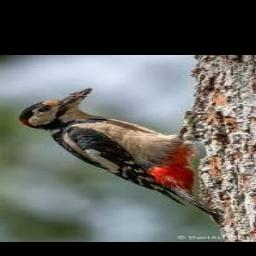Woodpecker: (19, 88, 224, 225)
